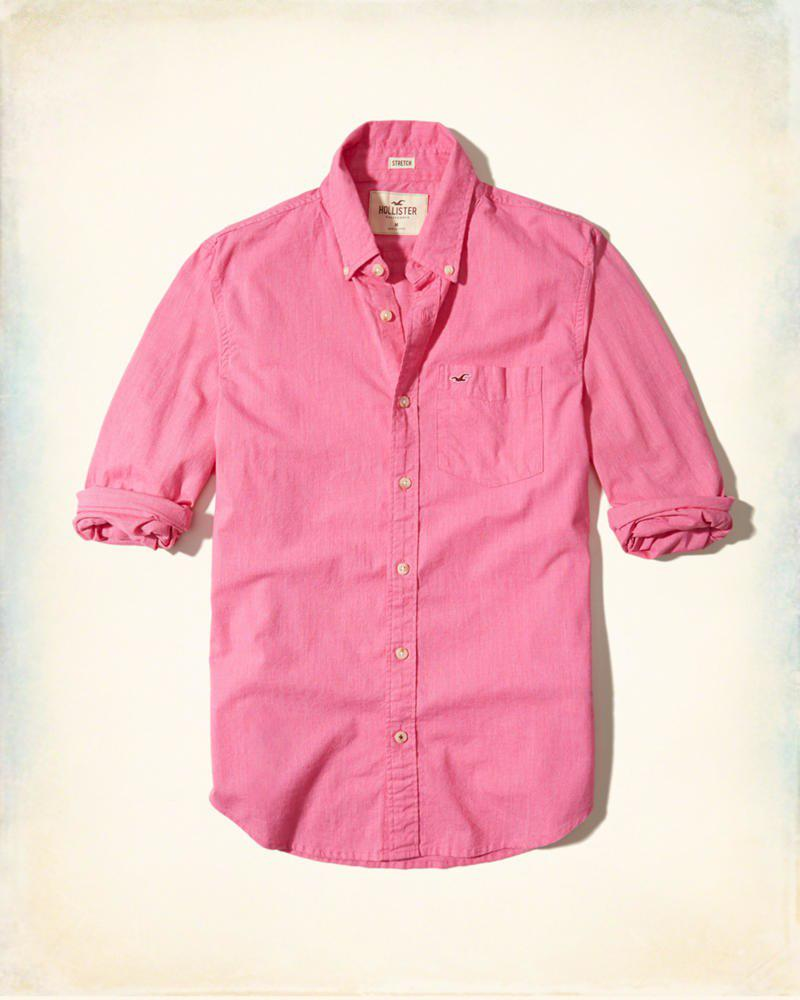teeshirt: (45, 107, 735, 878)
